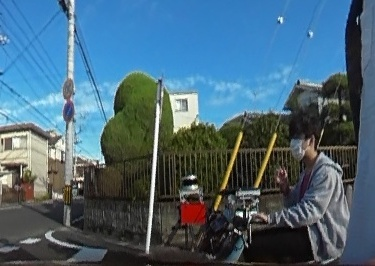person: (269, 109, 346, 266)
